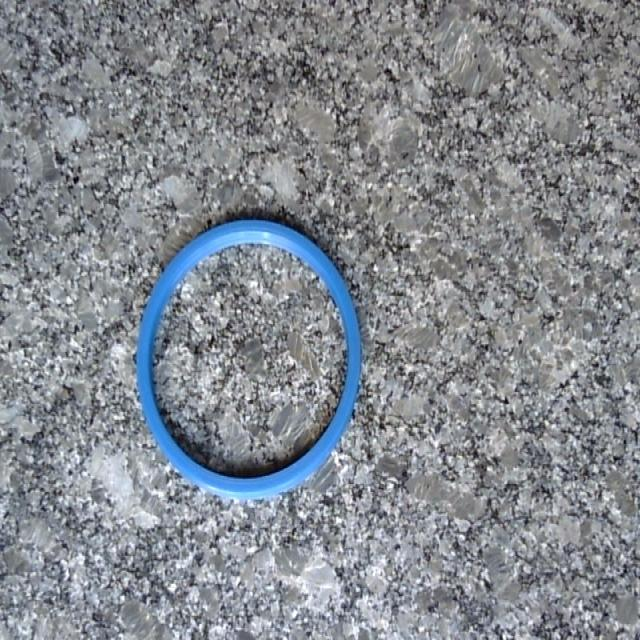purssian-blue-ring: (138, 220, 361, 500)
